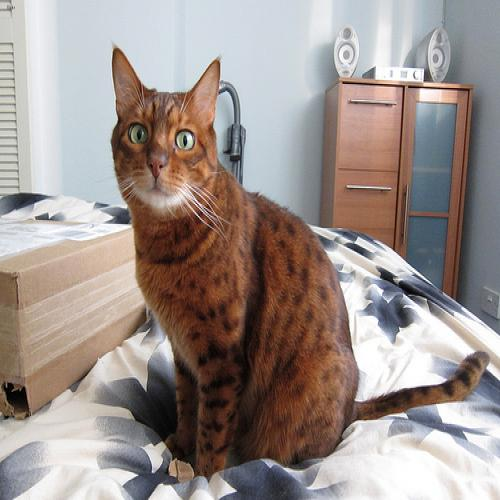bengal: (95, 41, 237, 219)
